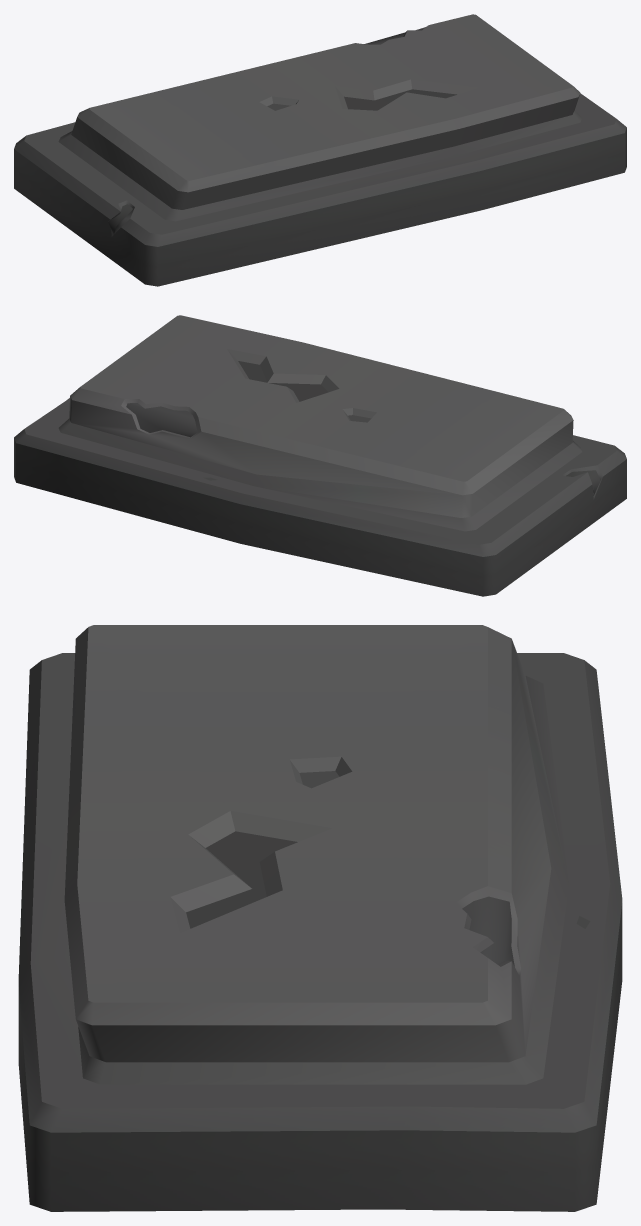
The model's file is Grave_2_2.glb.
3 views of the same model, one above another, from view 1: azimuth 30°, elevation 25°; view 2: azimuth 150°, elevation 25°; view 3: azimuth 270°, elevation 25° (orthographic). The views are drawn at different scales.
Parts seen in each view (by area): view 1: Grave_2_2; view 2: Grave_2_2; view 3: Grave_2_2.
Boxes of the visible parts, x1,y1,x2,y2 form: Grave_2_2: (14, 14, 626, 286); Grave_2_2: (14, 315, 626, 596); Grave_2_2: (18, 625, 622, 1211).
Bounding box in the file's own units: 1.69 × 0.2801 × 0.9163.
Materials: 1 (1 with a texture image).
